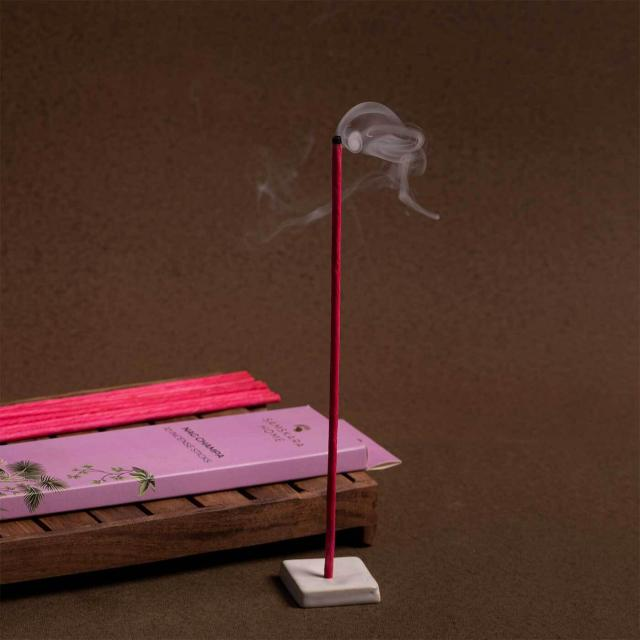Agarbatti: (318, 120, 359, 582)
